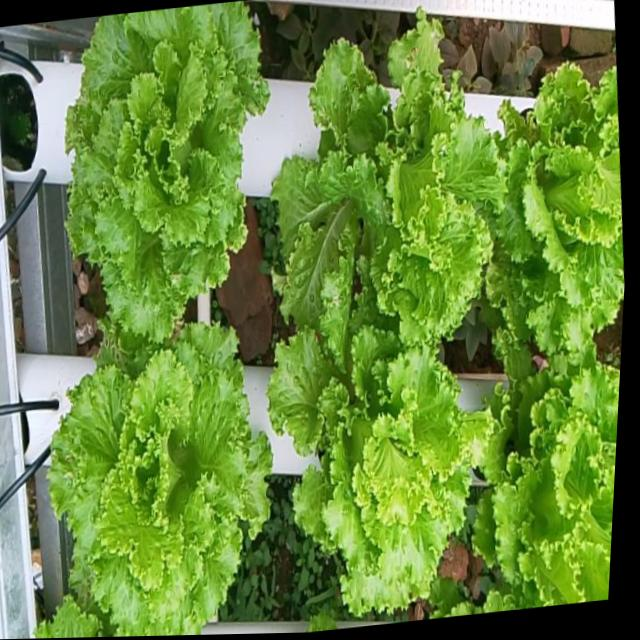Mature: (271, 17, 505, 347), (35, 321, 272, 638), (267, 287, 491, 615), (66, 1, 269, 341), (491, 63, 624, 351), (475, 344, 620, 606)
